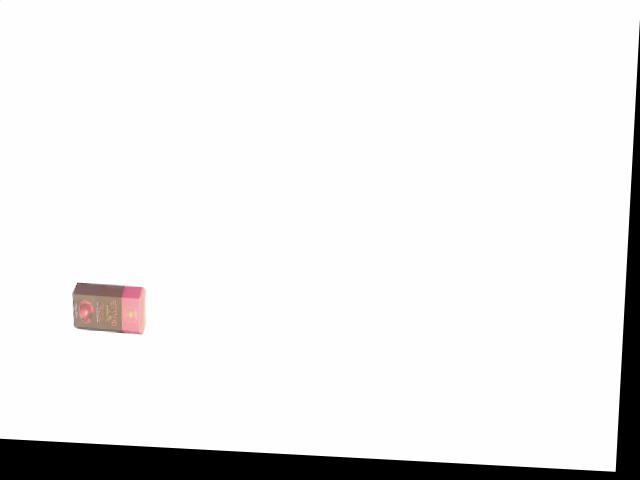chocolate: (63, 280, 150, 335)
